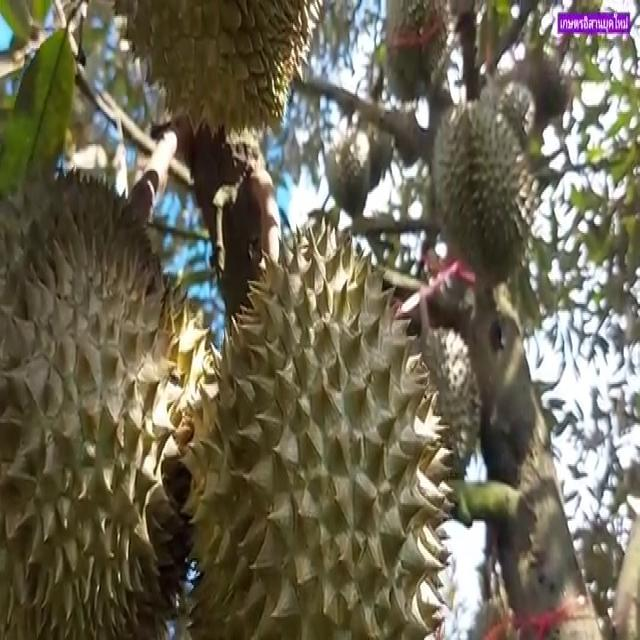durian: (176, 203, 454, 638), (2, 156, 227, 636), (106, 0, 325, 142), (426, 97, 542, 291), (387, 312, 484, 482), (379, 0, 461, 108), (321, 125, 374, 224)
